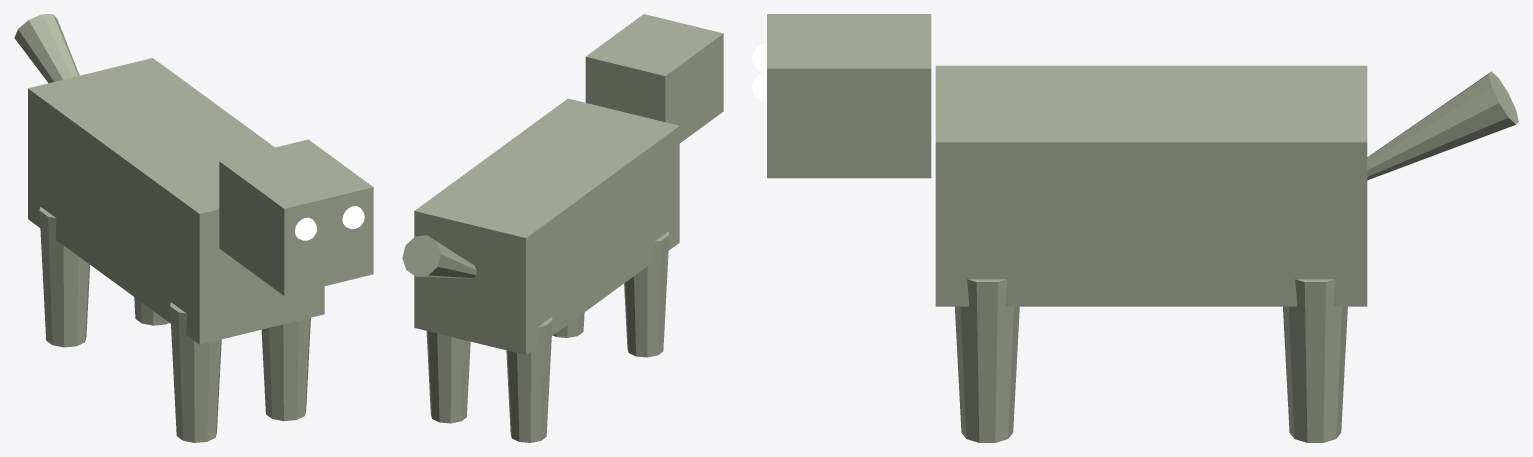
3 renders of one model, left to right at view 1: azimuth 30°, elevation 25°; view 2: azimuth 150°, elevation 25°; view 3: azimuth 270°, elevation 25°, orthographic. The views are drawn at different scales.
Visible parts, largest first — view 1: trunk, head, legFRm, legBRm, legFLm, tail, legBLm, eye, eye.001; view 2: trunk, head, legBRm, legFRm, legBLm, tail, legFLm; view 3: trunk, head, legBLm, legFLm, tail.
Part boxes in pixels (x1=…): trunk: x1=28, y1=58, x2=324, y2=344; head: x1=219, y1=139, x2=373, y2=295; legFRm: x1=170, y1=302, x2=221, y2=442; legBRm: x1=39, y1=206, x2=89, y2=347; legFLm: x1=261, y1=317, x2=310, y2=421; tail: x1=14, y1=14, x2=79, y2=83; legBLm: x1=134, y1=297, x2=169, y2=325; eye: x1=295, y1=217, x2=317, y2=240; eye.001: x1=342, y1=206, x2=364, y2=228; trunk: x1=414, y1=98, x2=679, y2=354; head: x1=585, y1=14, x2=723, y2=143; legBRm: x1=506, y1=317, x2=552, y2=442; legFRm: x1=624, y1=231, x2=669, y2=357; legBLm: x1=426, y1=331, x2=470, y2=423; tail: x1=402, y1=235, x2=476, y2=278; legFLm: x1=553, y1=312, x2=584, y2=337; trunk: x1=935, y1=65, x2=1367, y2=306; head: x1=767, y1=14, x2=931, y2=178; legBLm: x1=1283, y1=279, x2=1347, y2=442; legFLm: x1=955, y1=279, x2=1019, y2=442; tail: x1=1367, y1=71, x2=1518, y2=180.
Size of the model in its own units: 1.18 by 2.42 by 4.62.
